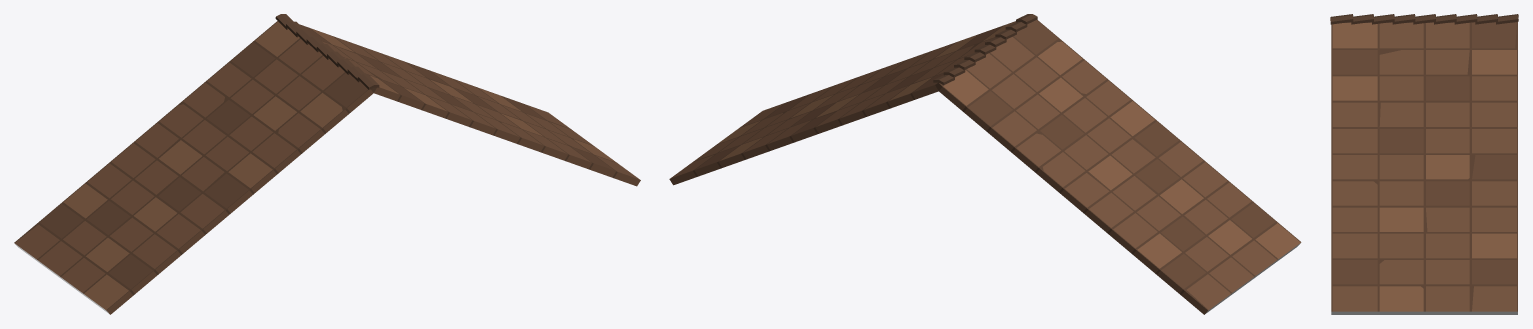
The model's file is Roof3_C9_01.fbx.
3 renders of one model, left to right at view 1: azimuth 30°, elevation 25°; view 2: azimuth 150°, elevation 25°; view 3: azimuth 270°, elevation 25°, orthographic.
Visible parts, largest first — view 1: Roof3_C9_01; view 2: Roof3_C9_01; view 3: Roof3_C9_01.
Boxes of the visible parts, box(x1,y1,x2,y2) form: Roof3_C9_01: box(14, 14, 640, 314); Roof3_C9_01: box(669, 14, 1301, 314); Roof3_C9_01: box(1330, 14, 1518, 314).
Size of the model in its own units: 833 by 252 by 252.
